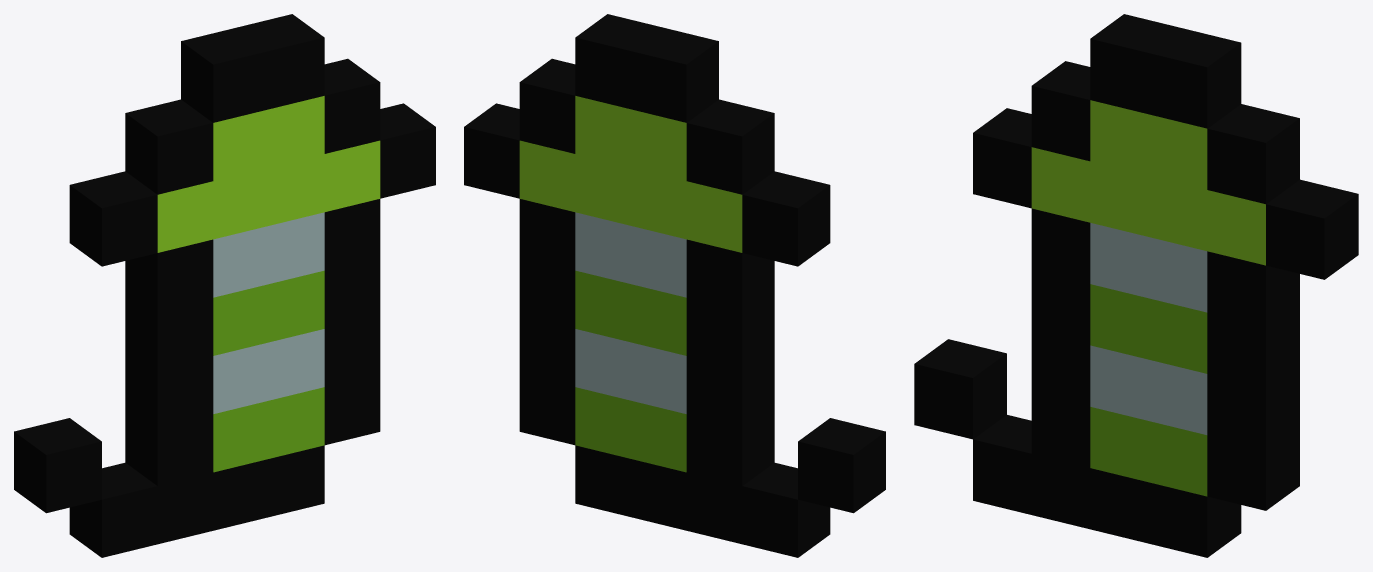
File: Lime Firecracker.glb
3 renders of one model, left to right at view 1: azimuth 30°, elevation 25°; view 2: azimuth 150°, elevation 25°; view 3: azimuth 330°, elevation 25°, orthographic. The views are drawn at different scales.
Visible parts, largest first — view 1: generated(Clone); view 2: generated(Clone); view 3: generated(Clone).
Part boxes in pixels (<box>): generated(Clone): <box>14,14,435,557</box>; generated(Clone): <box>464,14,885,557</box>; generated(Clone): <box>914,14,1358,557</box>.
Bounding box in the file's own units: 7 × 8 × 1.
1 material, 1 textured.
